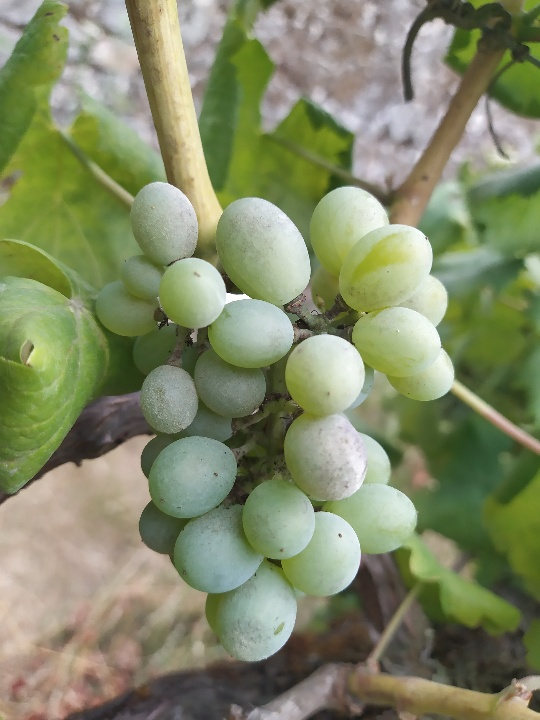grape: (94, 174, 459, 668)
